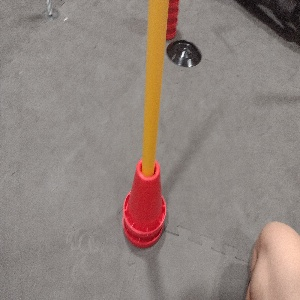Red_2: (119, 157, 167, 249)
Red_4: (164, 0, 180, 41)
